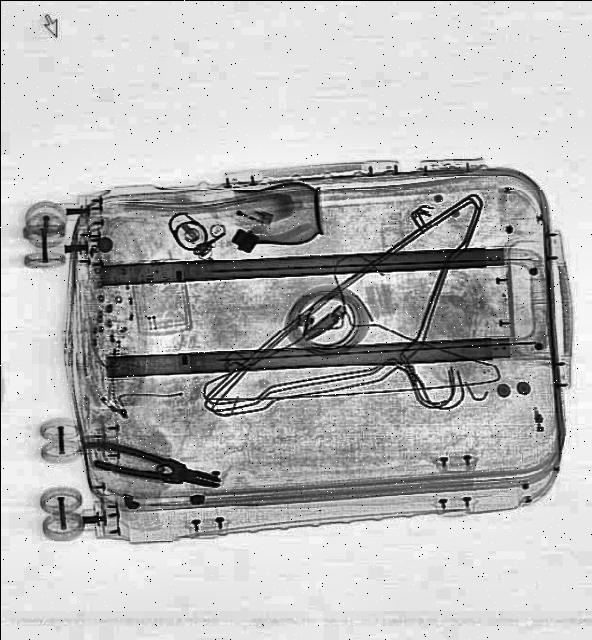Pliers: (81, 439, 223, 495)
